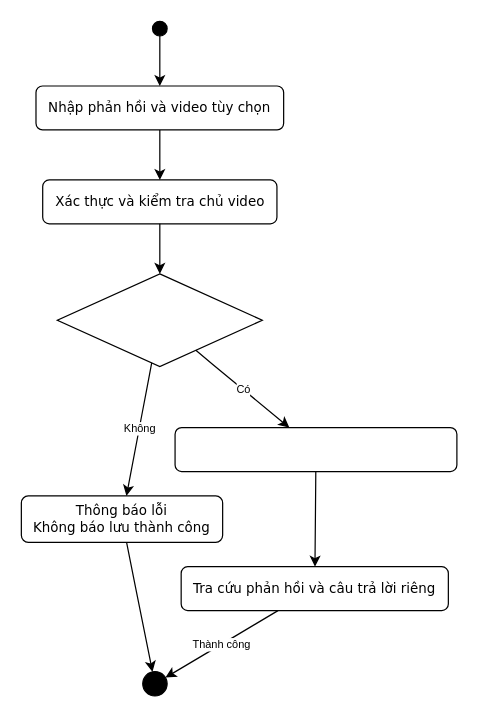
Image size: 478x717. Some labels were removed from this diagram. Here are the shapes that lost their labels. From the top down, the centre of each, then its label:
At (159,320): "Hợp lệ và được phép?".
At (315,449): "INSERT PhanHoi theo người đăng nhập".
